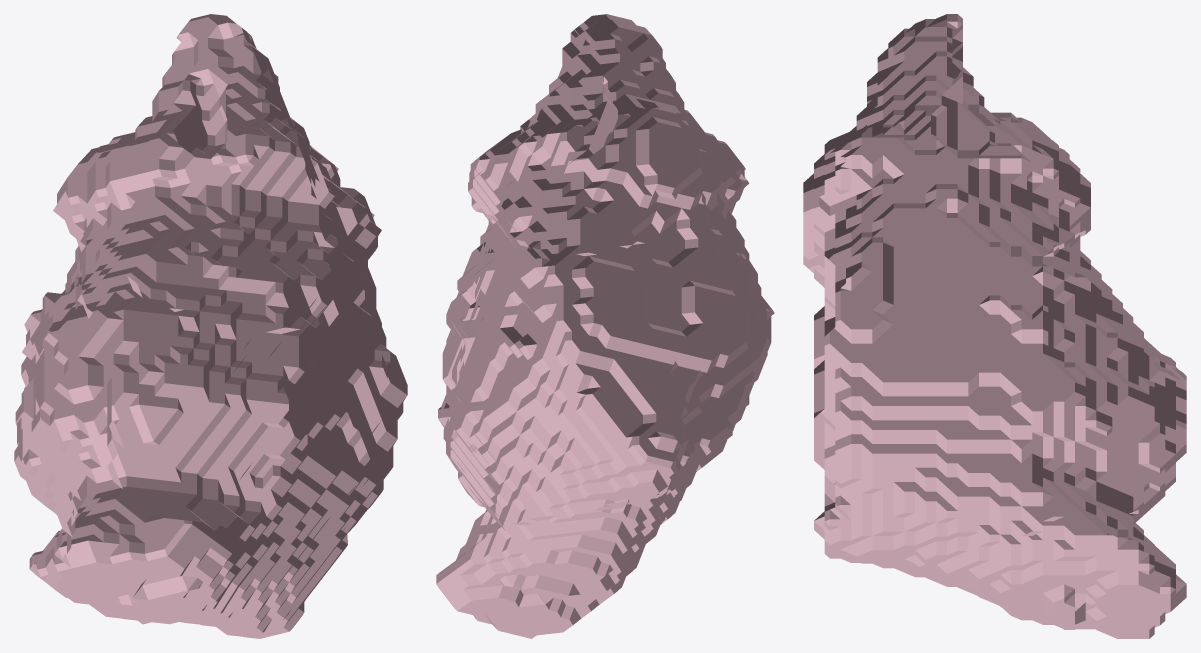
Rendered from region_0174_Vv__ventral_nucleus_of_ventral_telencephalon_area_.glb.
The picture shows the model from 3 angles, left to right: view 1: azimuth 30°, elevation 25°; view 2: azimuth 150°, elevation 25°; view 3: azimuth 270°, elevation 25°; orthographic projection. The views are drawn at different scales.
Visible parts, largest first — view 1: world; view 2: world; view 3: world.
Part boxes in pixels (x1,y1,x2,y2): world: (14, 14, 407, 638); world: (436, 14, 774, 638); world: (803, 14, 1186, 638).
Size of the model in its own units: 0.232 by 0.488 by 0.288.
